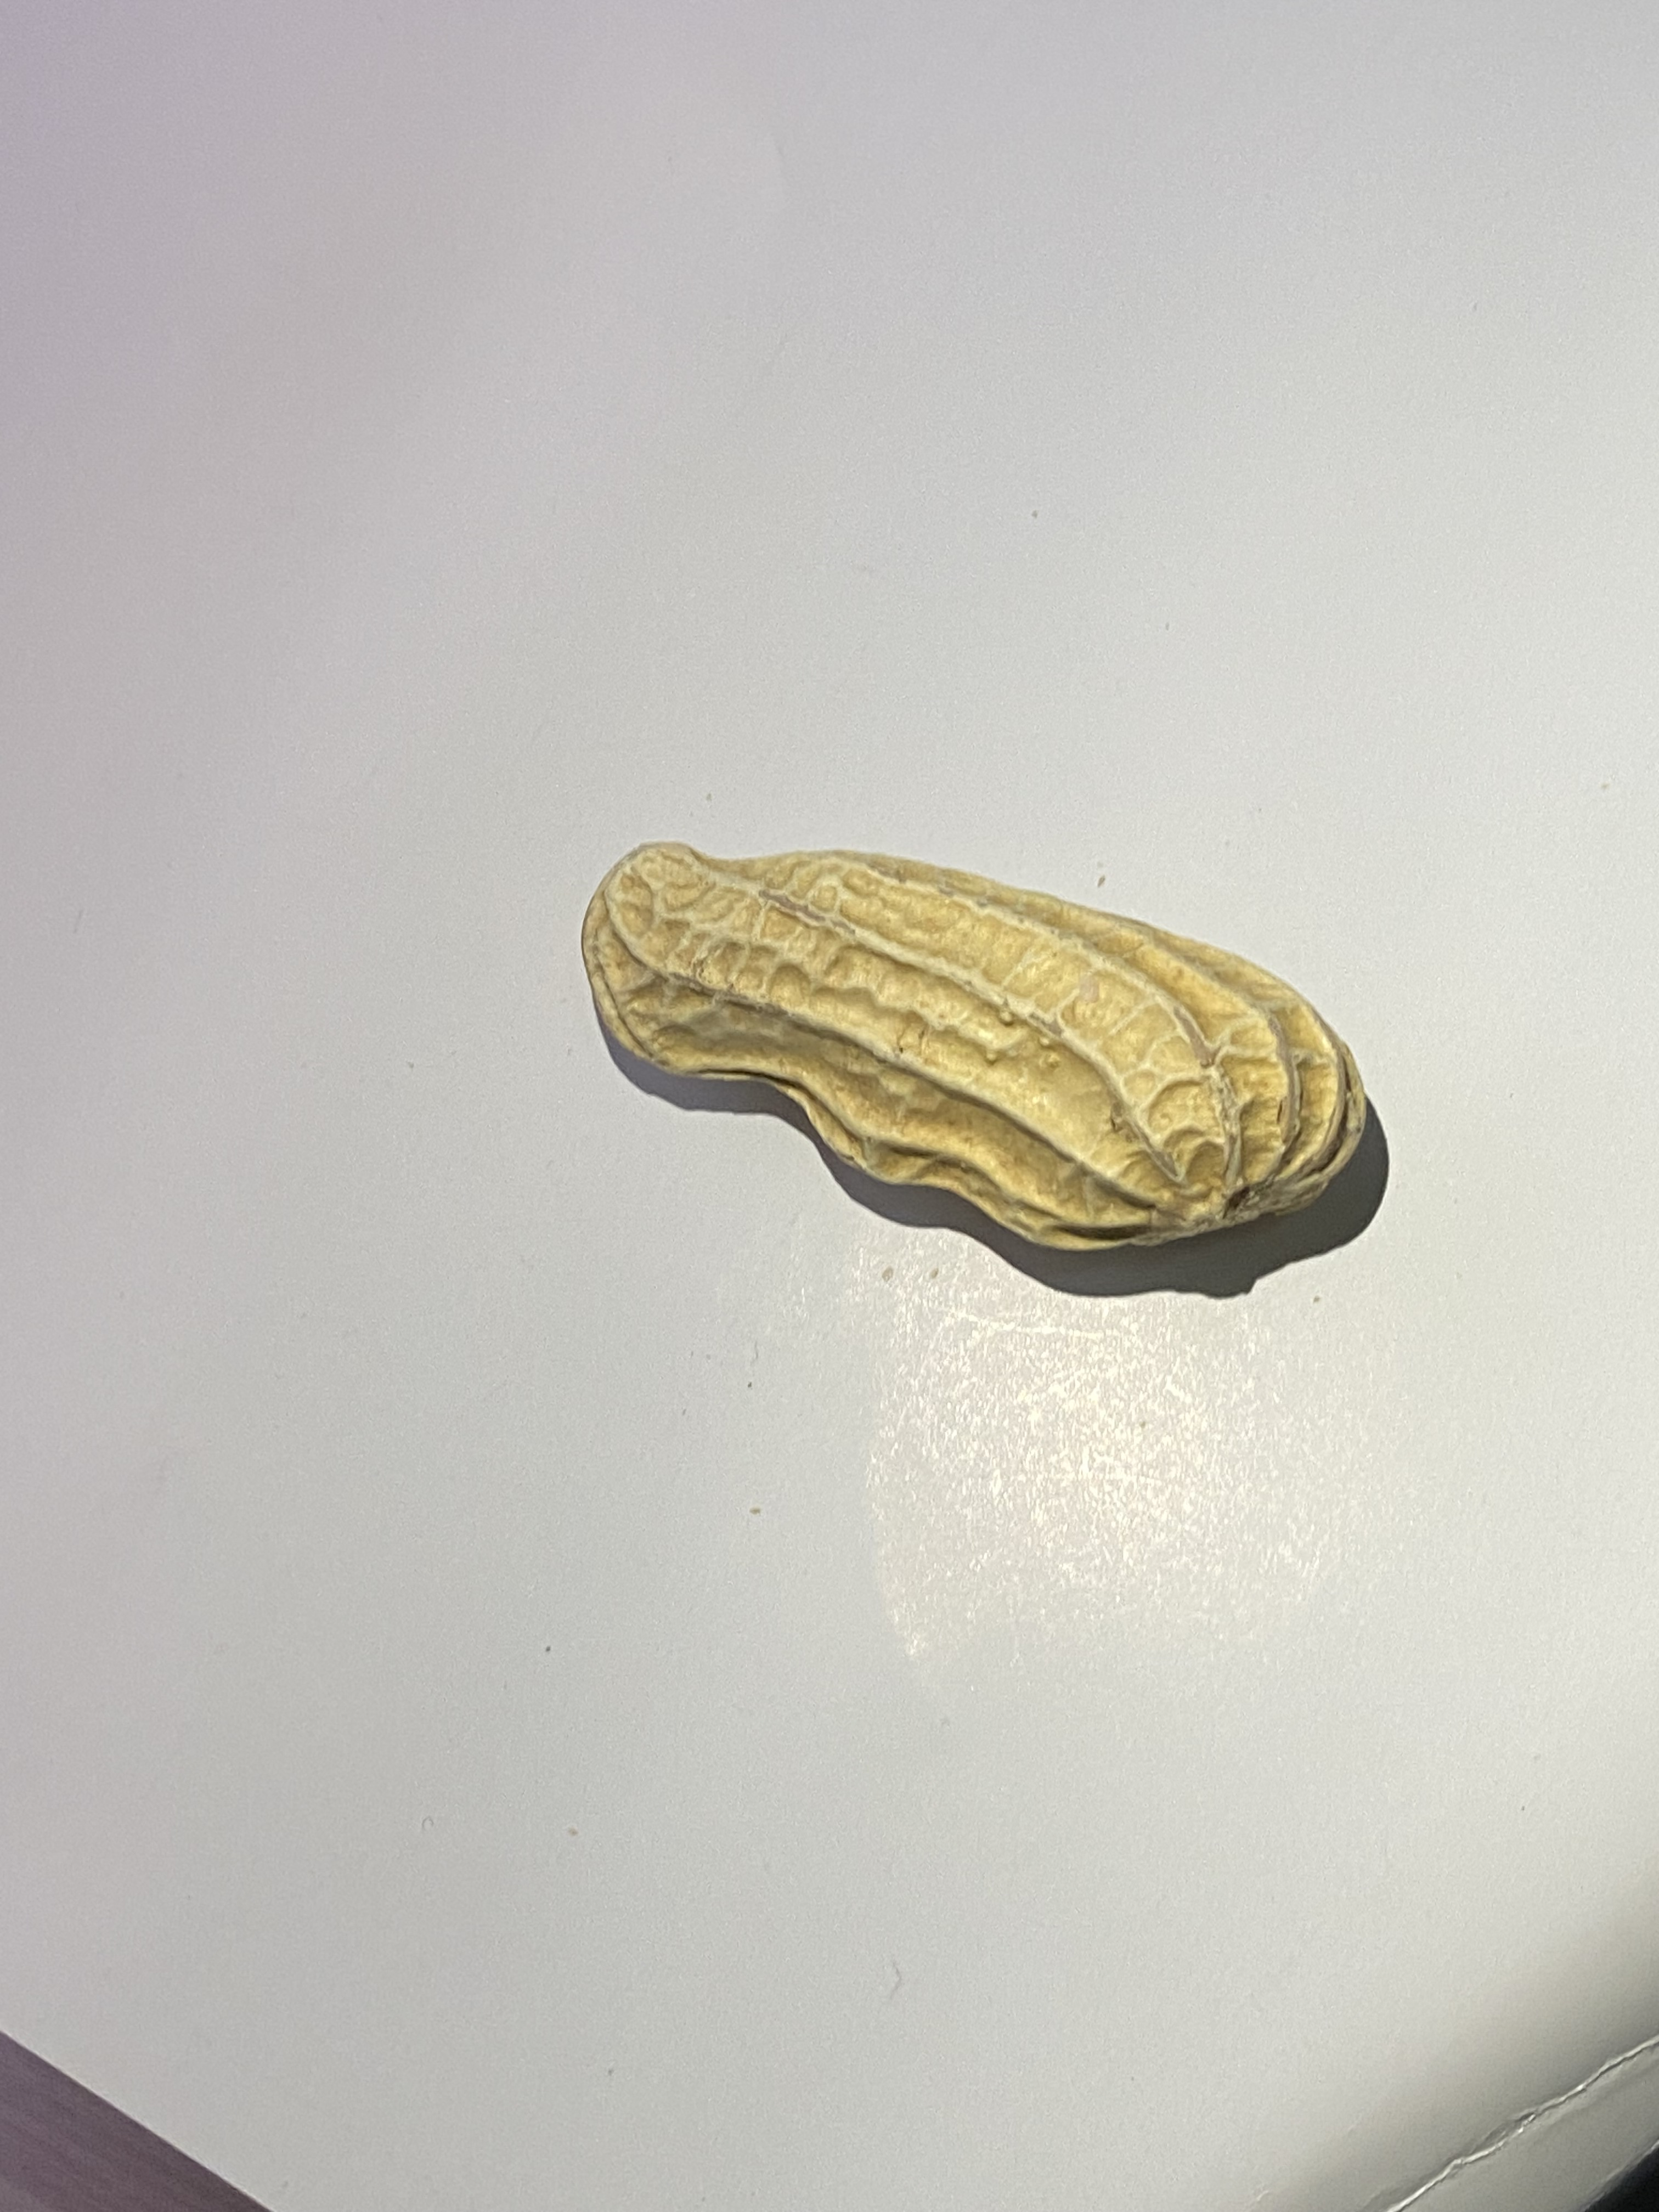kacang3: (530, 798, 1373, 1298)
